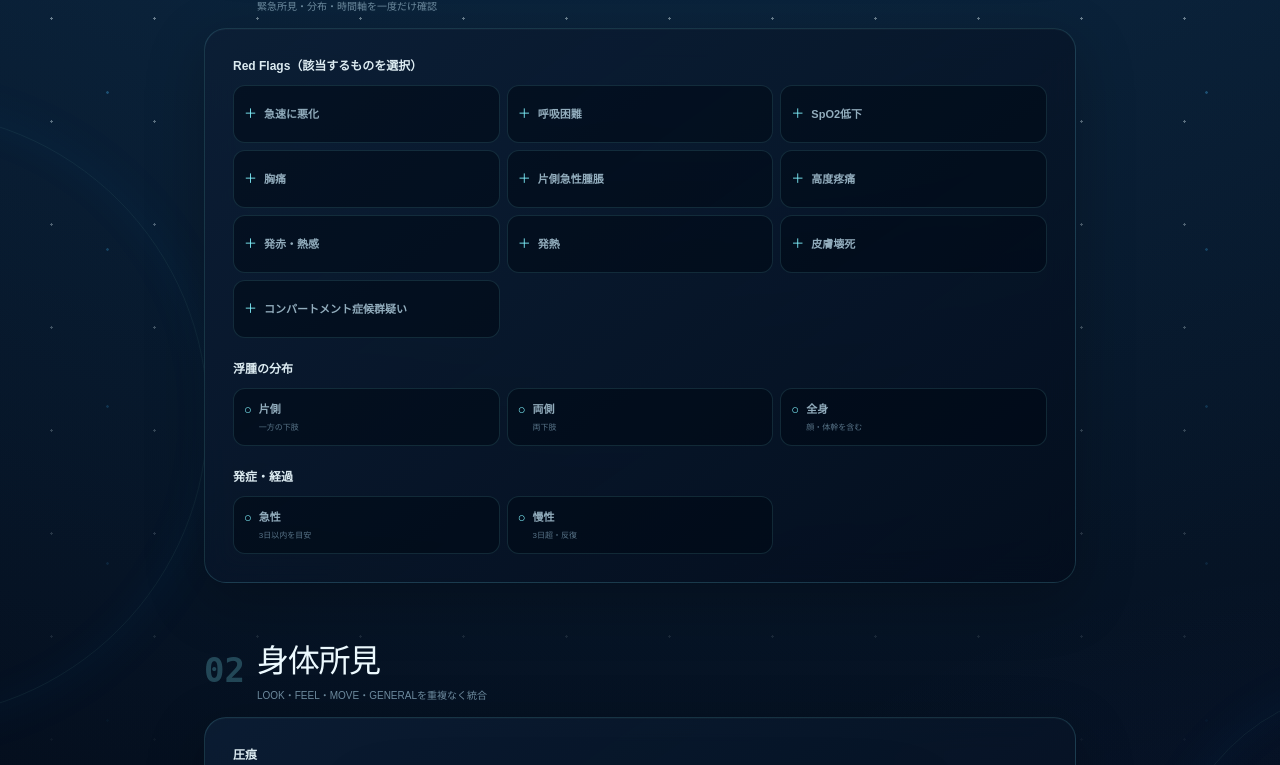
Test: Bedside Edema Navigator › conditionally shows unilateral findings and D-dimer only for unilateral edema
(page scrolled)
Expected: the field labelled "D-dimer" is not shown
Click the button named "片側一方の下肢" at point(279, 428), box [233,388,500,446]
(page scrolled)
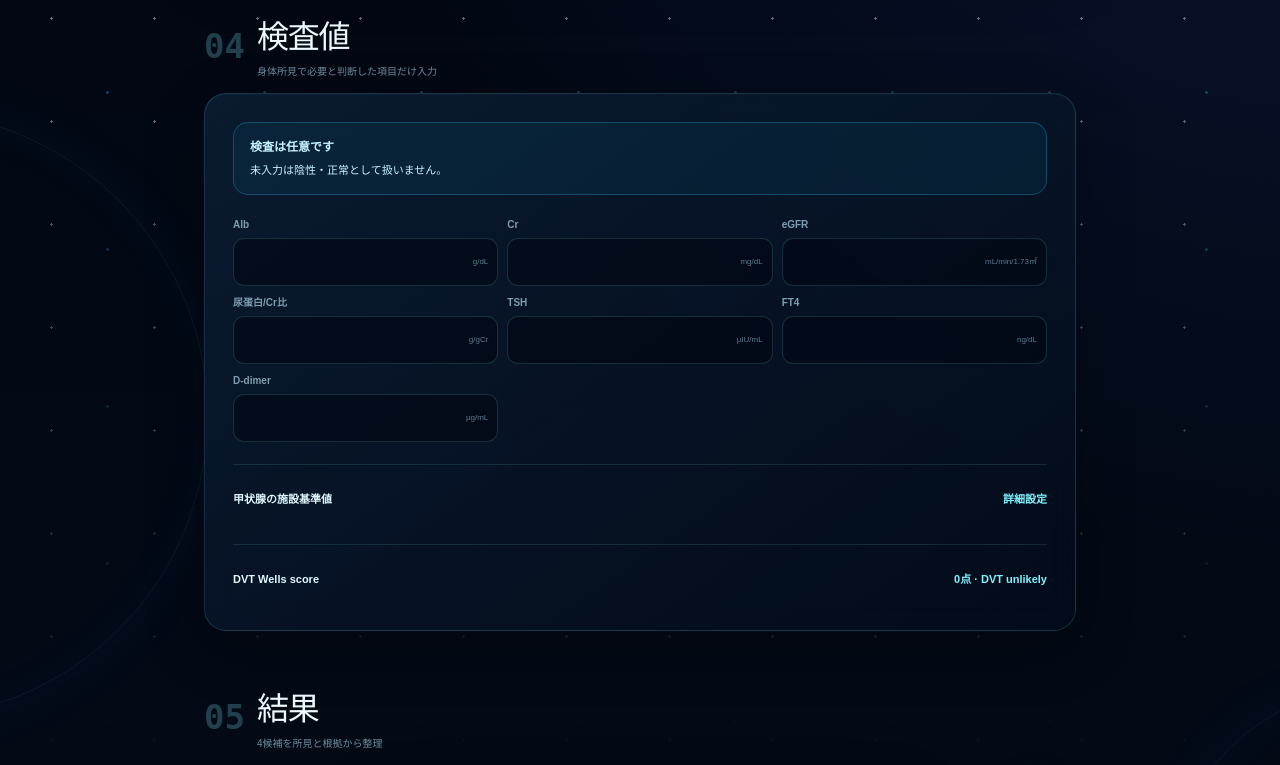
Expected: the number field labelled "D-dimer" is shown, [234,395,466,441]
